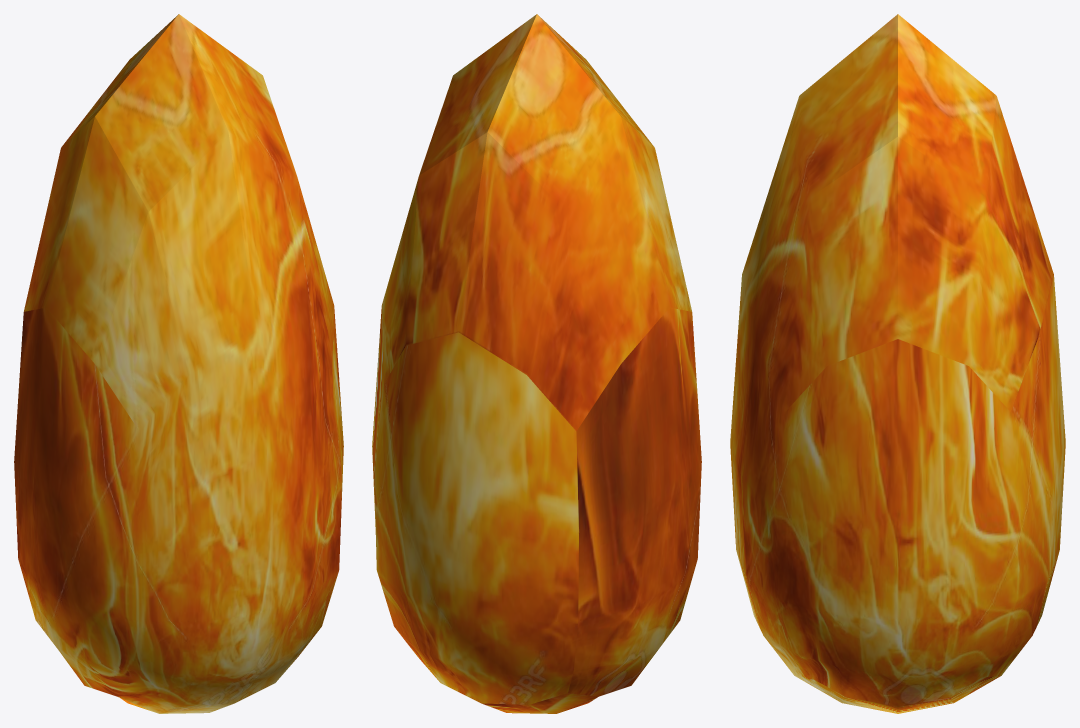
The model's file is ModelitoAlma.fbx.
3 renders of one model, left to right at view 1: azimuth 30°, elevation 25°; view 2: azimuth 150°, elevation 25°; view 3: azimuth 270°, elevation 25°, orthographic.
Visible parts, largest first — view 1: Mesh; view 2: Mesh; view 3: Mesh.
Boxes of the visible parts, box(x1,y1,x2,y2) form: Mesh: box(14, 14, 343, 713); Mesh: box(372, 14, 701, 713); Mesh: box(730, 14, 1065, 713).
Size of the model in its own units: 0.7653 by 1.76 by 0.7815.
